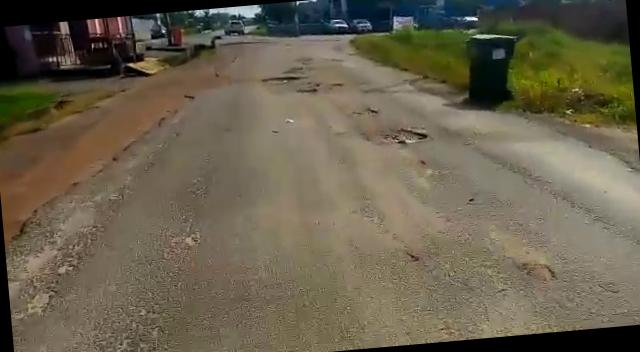pothole: (366, 124, 433, 150), (259, 73, 302, 85), (294, 86, 318, 96)
